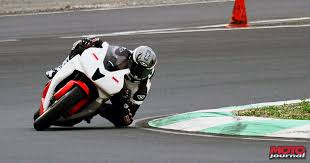moto: (36, 52, 130, 128)
person: (122, 44, 159, 127)
